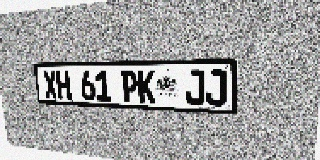1: (94, 70, 111, 101)
6: (79, 70, 96, 101)
H: (56, 71, 71, 100)
J: (205, 69, 227, 106), (185, 70, 205, 105)
K: (137, 70, 156, 103)
P: (120, 70, 138, 103)
X: (43, 71, 58, 99)
